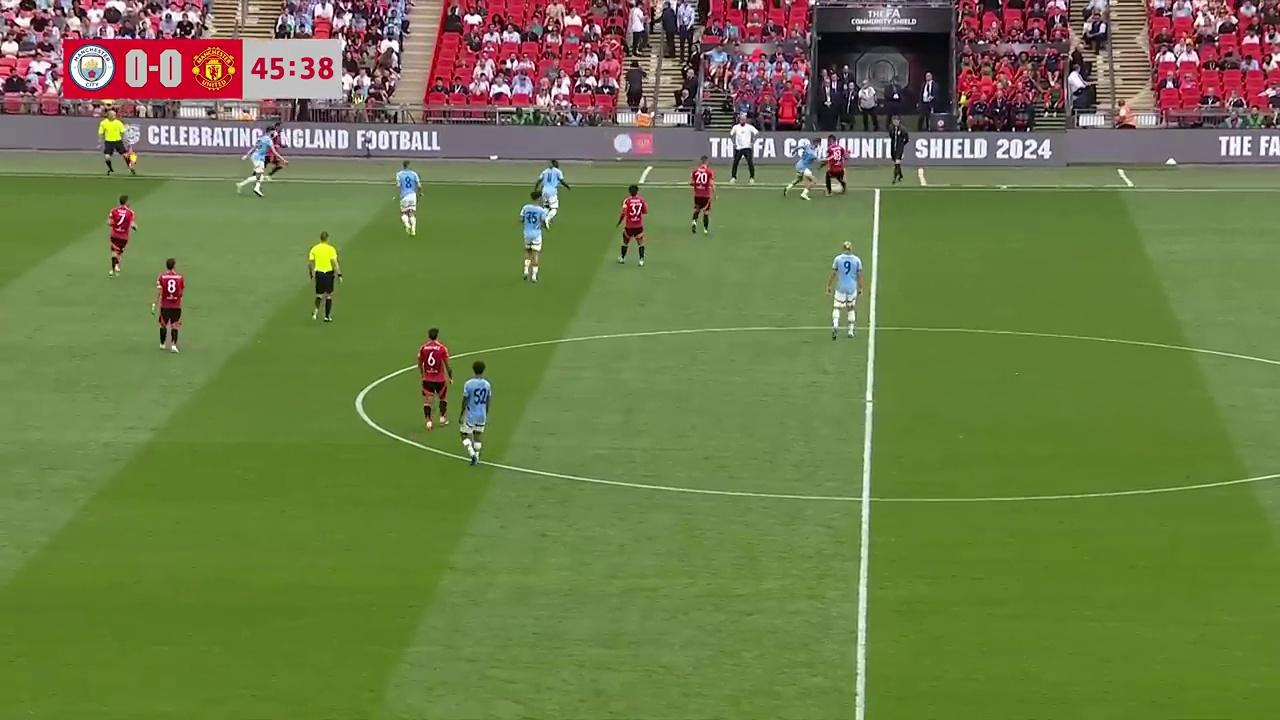player: (416, 327, 454, 429), (459, 360, 492, 465), (825, 245, 861, 340), (152, 257, 185, 353), (615, 185, 648, 266), (236, 128, 273, 197), (106, 194, 137, 276), (519, 193, 546, 282), (535, 159, 571, 223), (394, 161, 423, 236), (689, 159, 716, 235), (786, 139, 817, 200), (820, 139, 847, 197), (266, 118, 287, 178), (731, 145, 755, 185)
referee: (307, 231, 342, 322), (101, 109, 135, 175)
